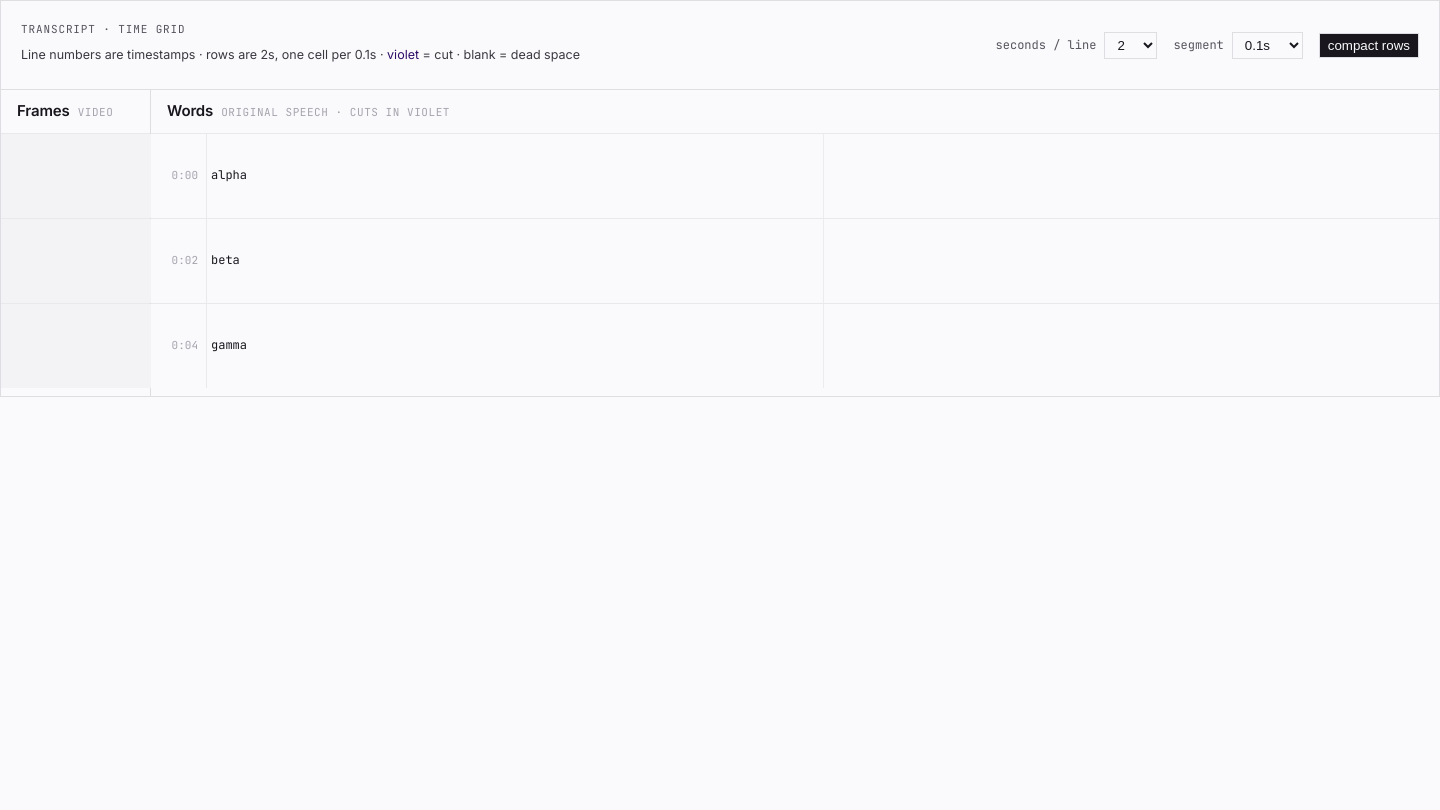
it: CutEditor filmstrip › clicking a filmstrip thumbnail opens (and ✕ closes) the full-size view
Click the button named "view frame at 0:00" at (76, 176), box [1,134,151,218]
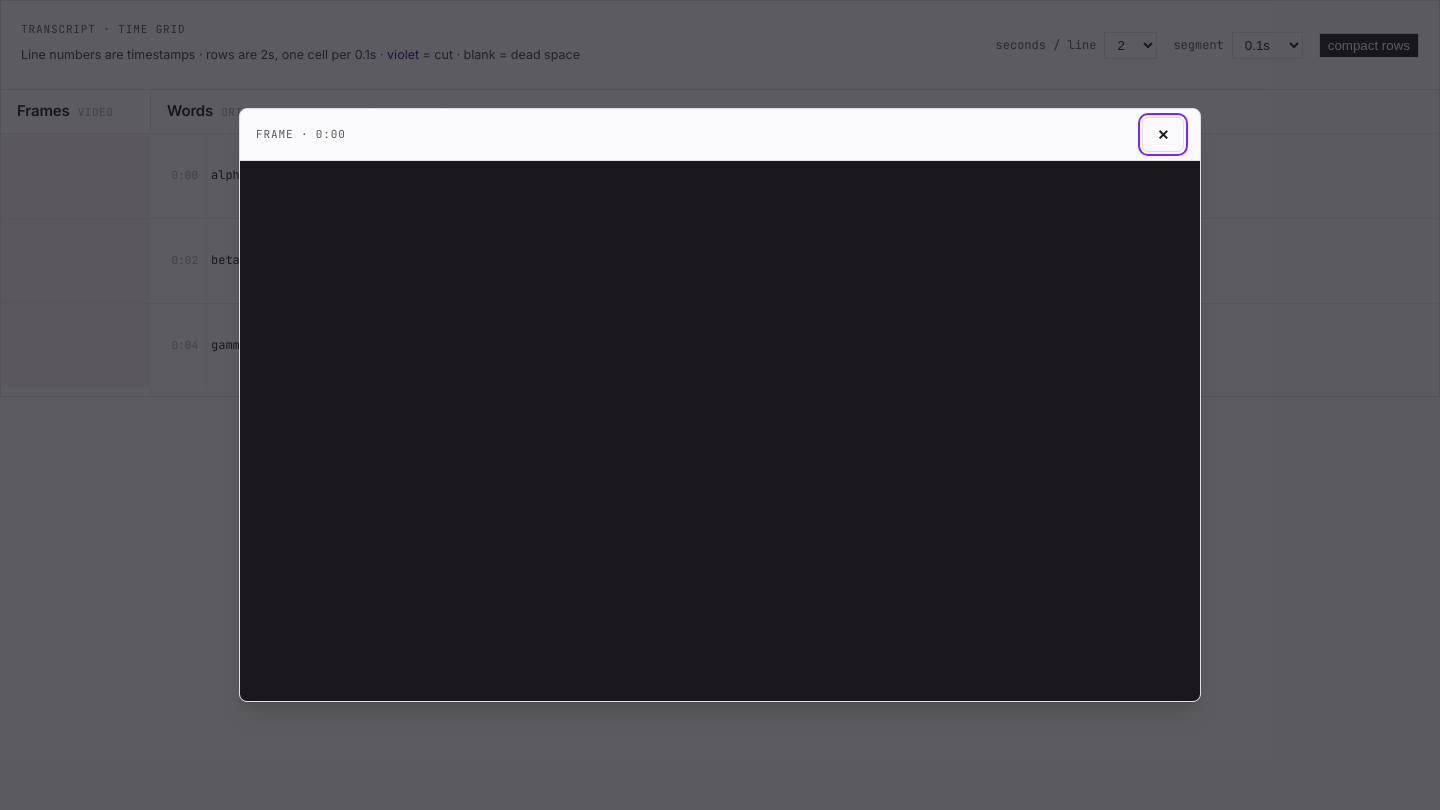
Result: the text "Frame · 0:00" is shown at [256,129,346,140]
Click the button named "Close frame view" at (1163, 134), box [1142,117,1184,152]
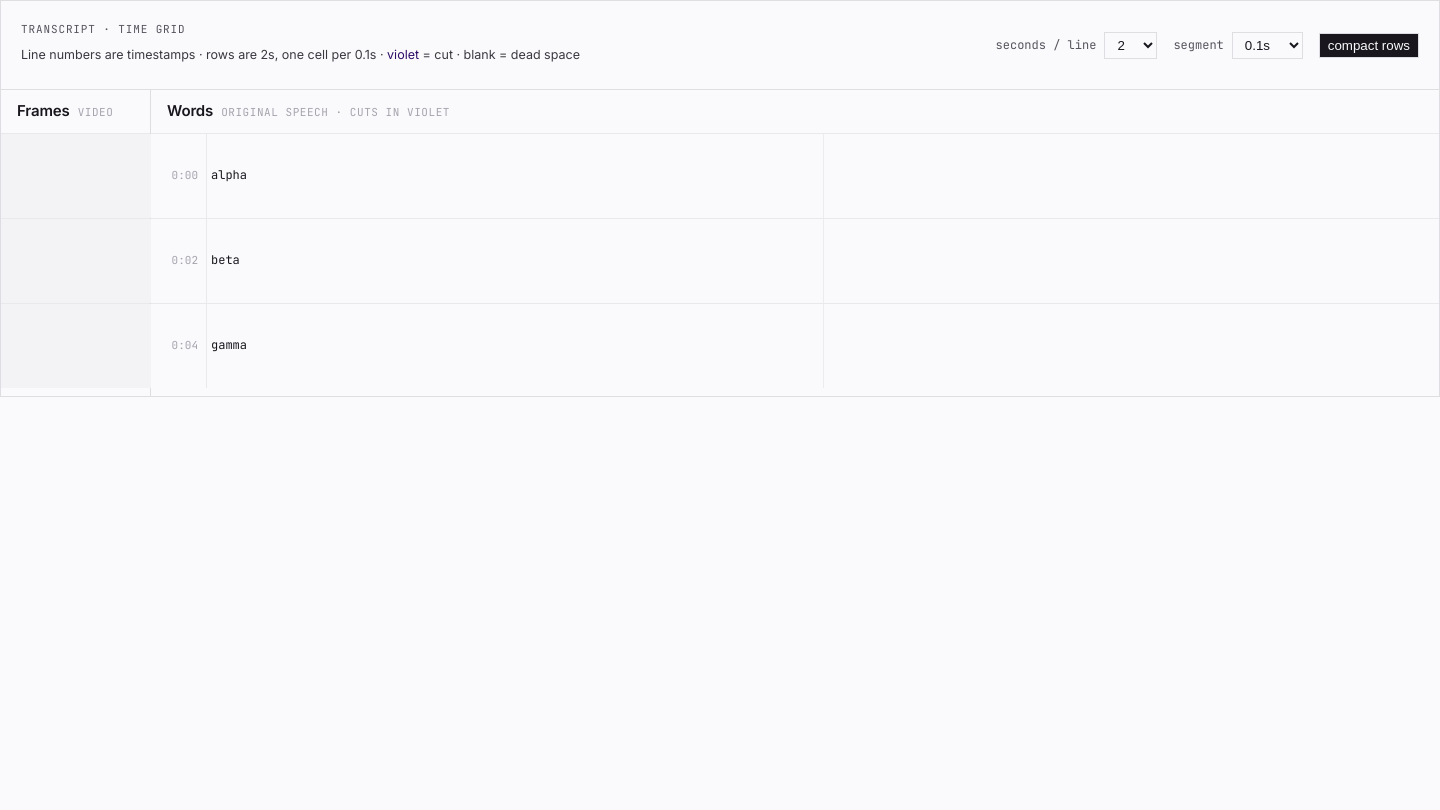
Result: the text "Frame · 0:00" is gone
